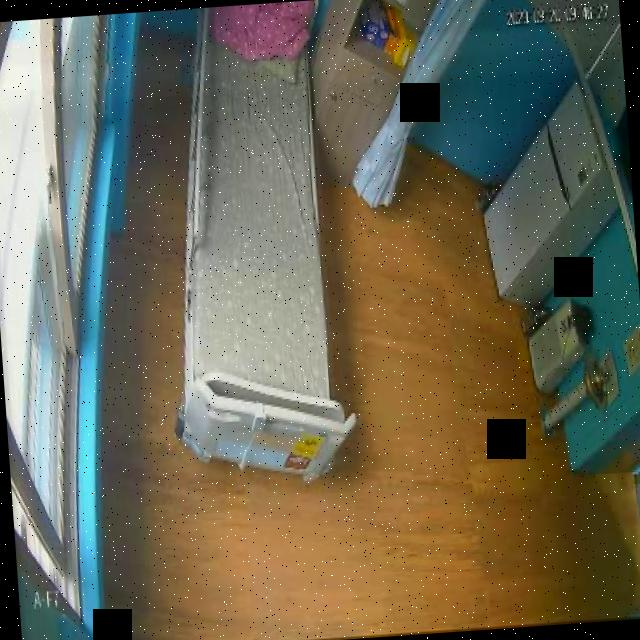bed: (153, 1, 359, 488)
